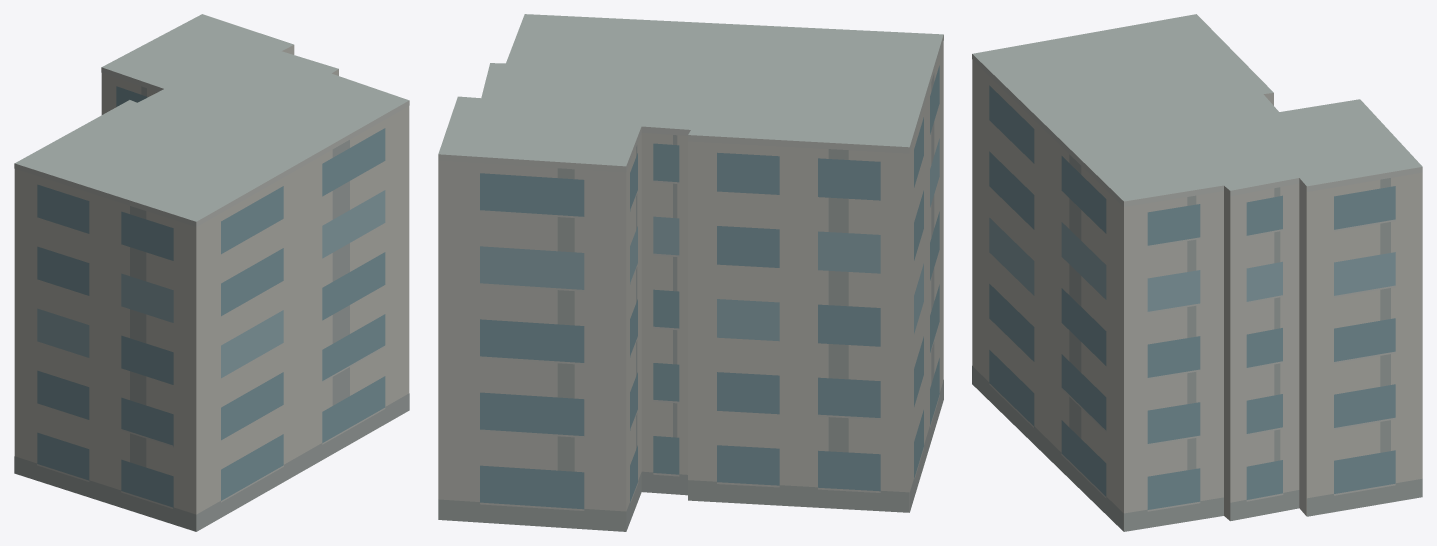
The model's file is survey-upis-32580560.glb.
3 renders of one model, left to right at view 1: azimuth 30°, elevation 25°; view 2: azimuth 150°, elevation 25°; view 3: azimuth 270°, elevation 25°, orthographic. The views are drawn at different scales.
Visible parts, largest first — view 1: survey-upis-32580560.tmp; view 2: survey-upis-32580560.tmp; view 3: survey-upis-32580560.tmp.
Part boxes in pixels (x1,y1,x2,y2): survey-upis-32580560.tmp: [14, 14, 409, 531]; survey-upis-32580560.tmp: [438, 14, 943, 531]; survey-upis-32580560.tmp: [972, 14, 1422, 531].
Size of the model in its own units: 17.3 by 14.2 by 17.56.
